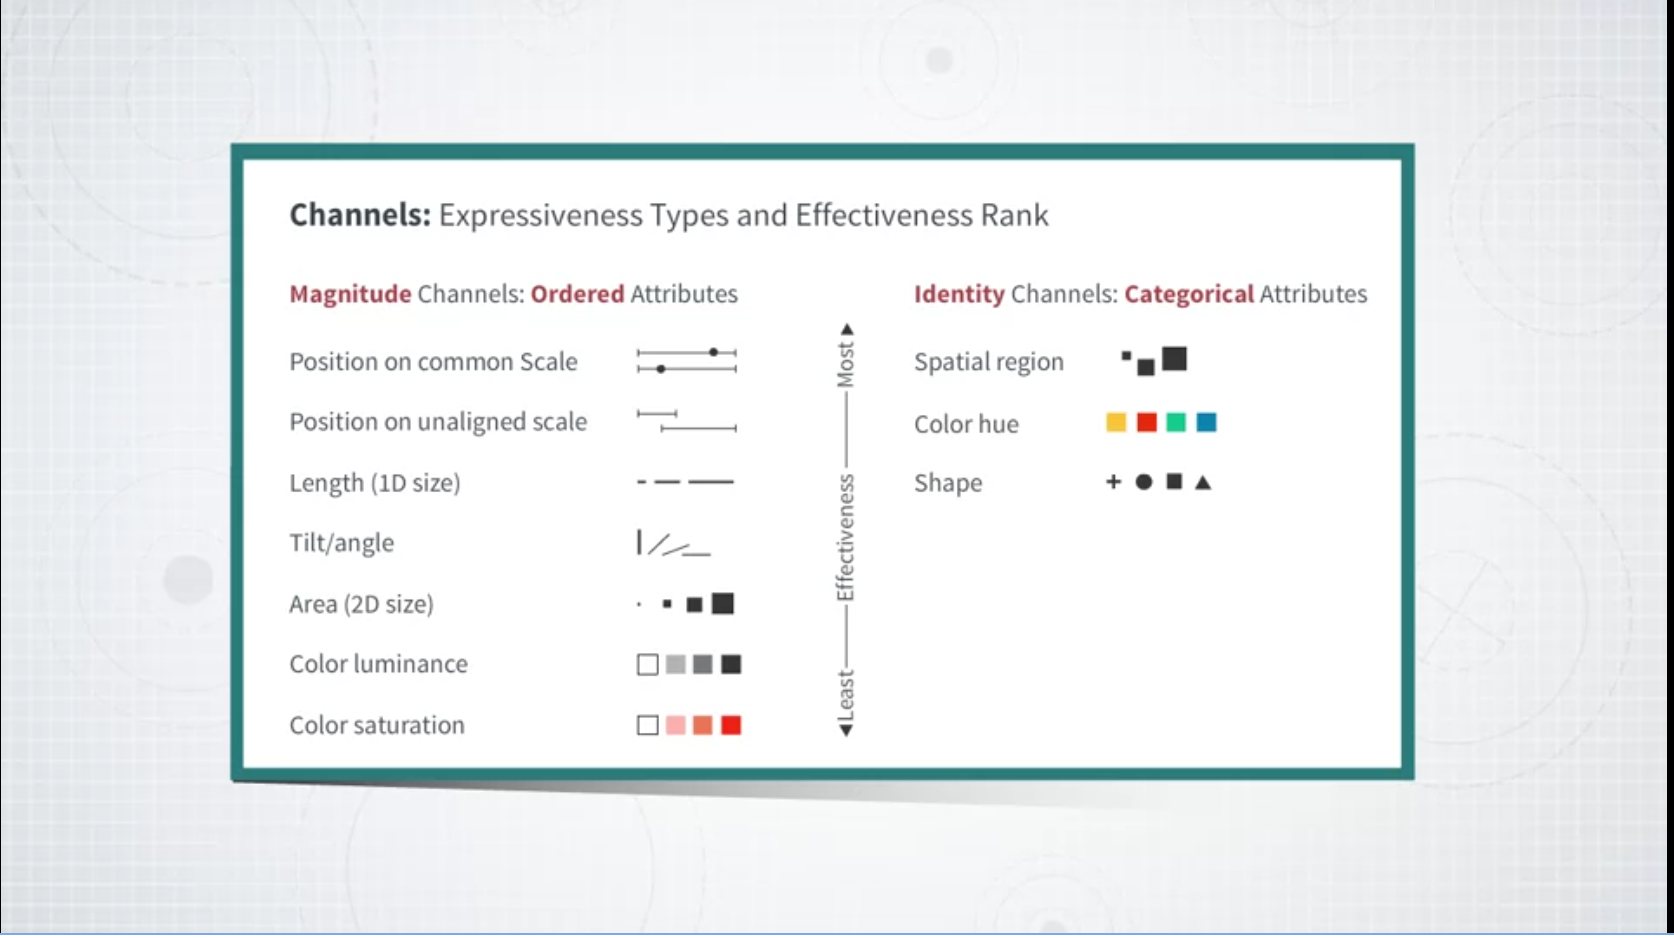figure: (232, 143, 1415, 781), (628, 343, 747, 744), (1096, 340, 1231, 495)
text: (282, 191, 1057, 233), (285, 274, 745, 313), (909, 279, 1373, 307), (285, 406, 592, 438), (283, 345, 579, 376), (287, 467, 466, 501), (285, 649, 476, 681), (909, 346, 1072, 380), (282, 590, 440, 624), (285, 712, 464, 741), (287, 525, 397, 563), (911, 410, 1026, 443), (916, 470, 985, 497)
